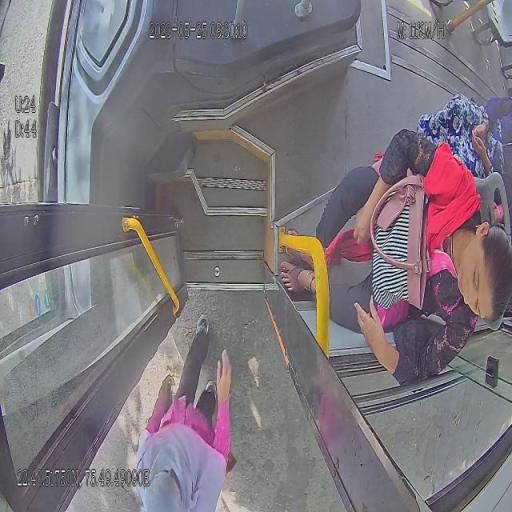persona: (279, 128, 511, 387), (134, 313, 237, 510), (414, 92, 512, 226)
